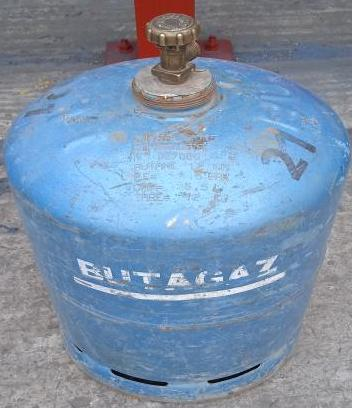cylinder: (1, 1, 352, 408)
